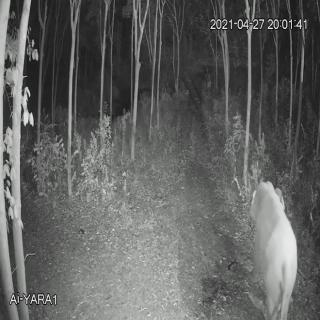Elephant: (244, 164, 305, 320)
